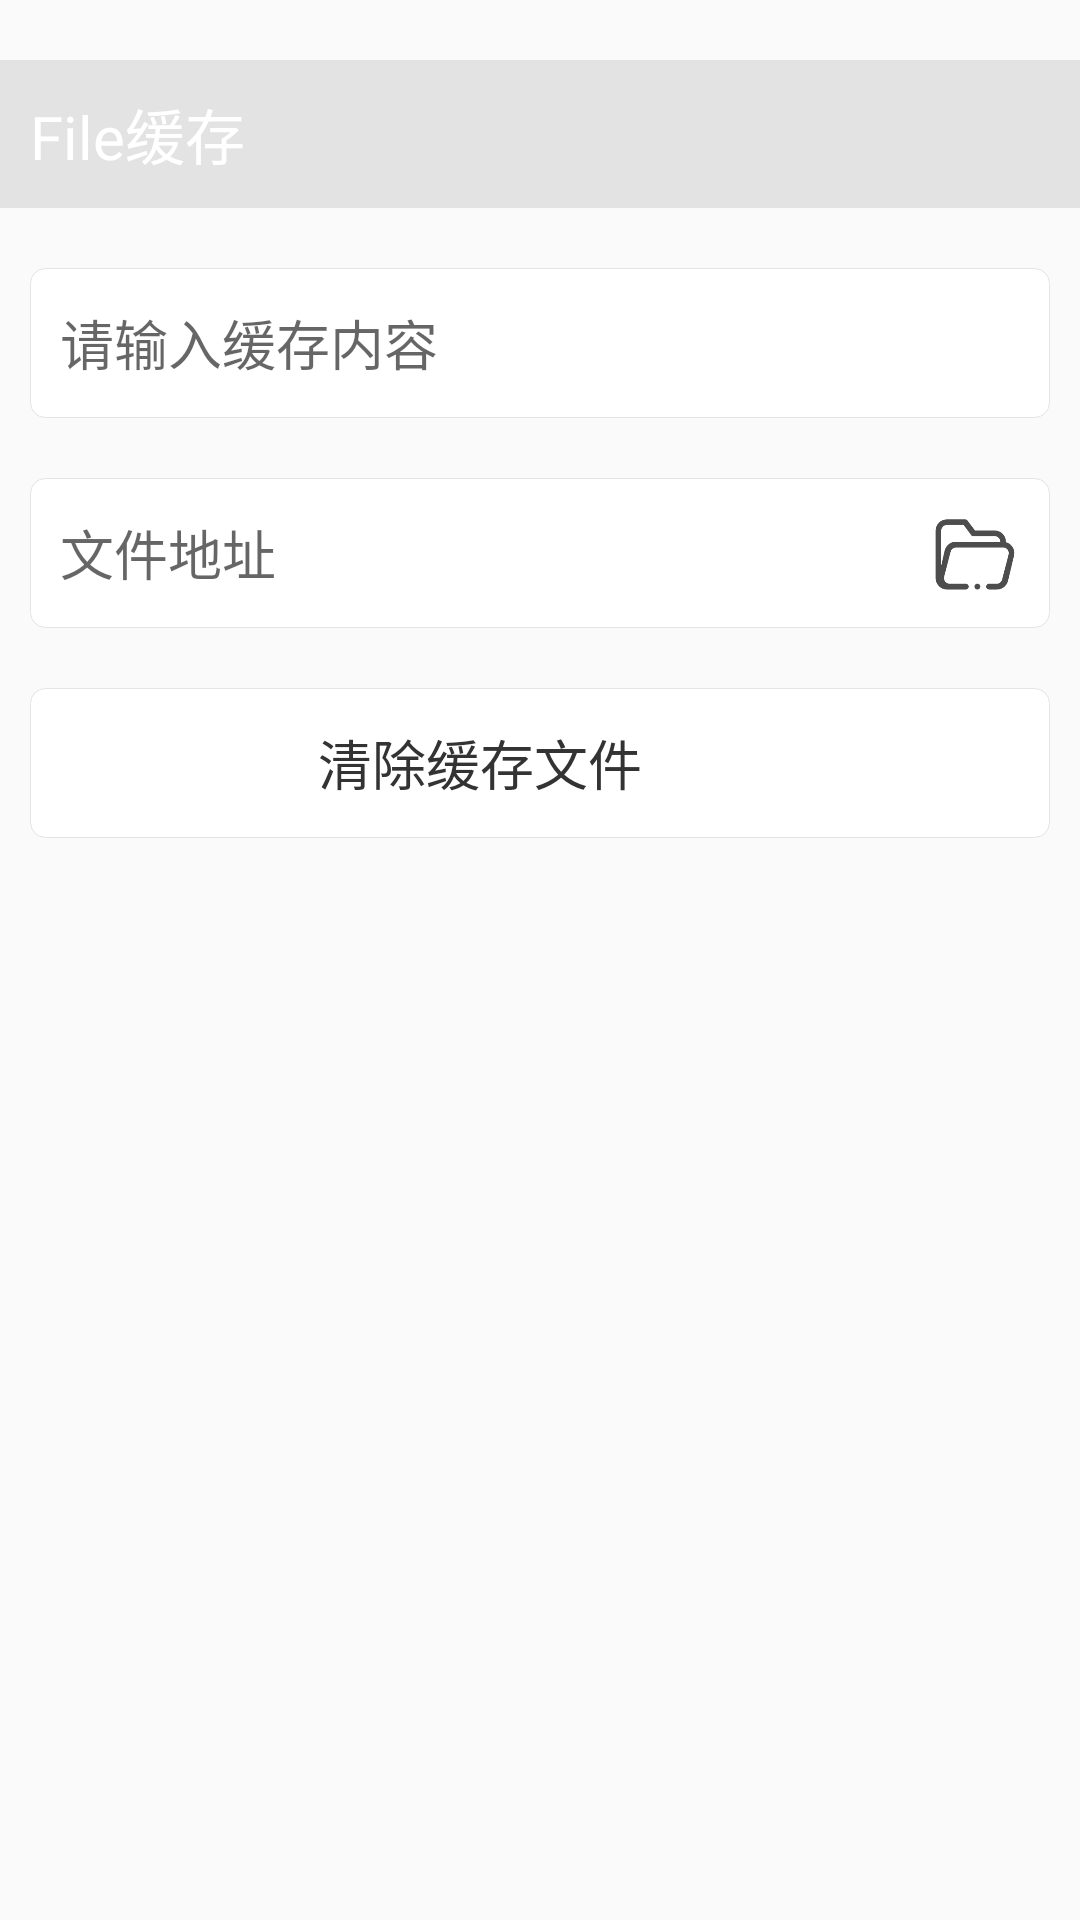

Screen size 1080w x 1920h. Icon name, then its box in pixels as (left=x1, top=y1, right=x2, bottom=y2):
file: (left=935, top=519, right=1014, bottom=590)
